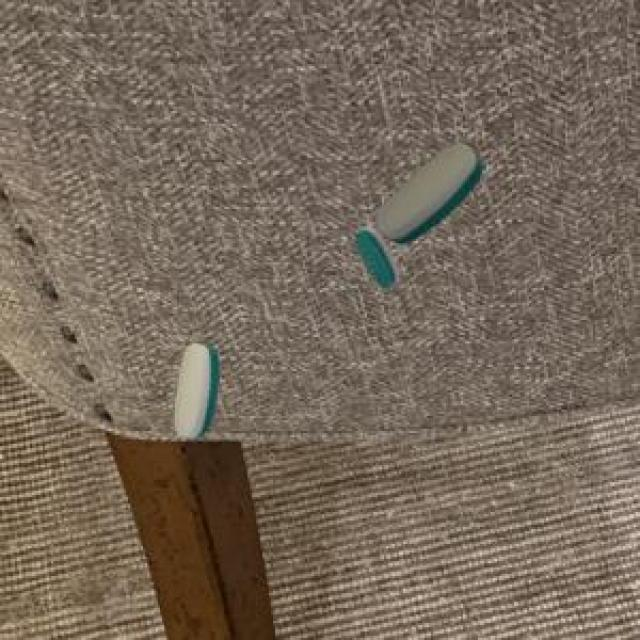Neozep: (347, 134, 498, 298), (159, 332, 230, 449)
